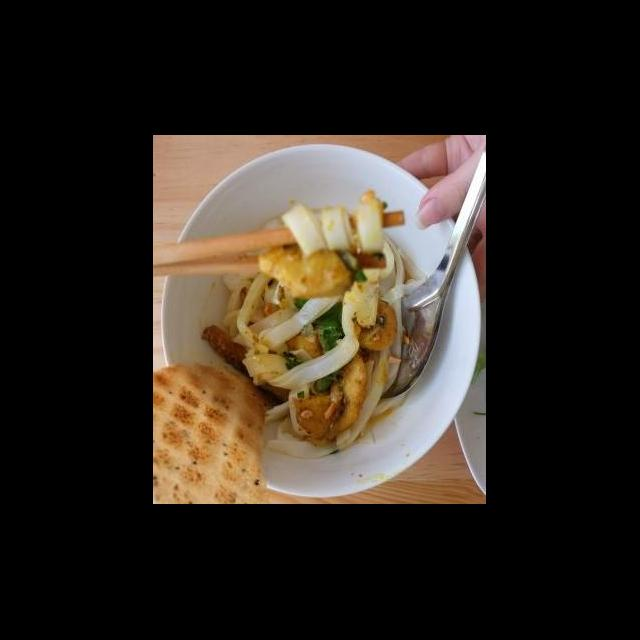banh da: (154, 358, 274, 504)
ca: (290, 342, 370, 449), (254, 242, 354, 304)
mi: (220, 258, 364, 392), (362, 236, 430, 402), (258, 388, 404, 462), (278, 192, 388, 256)
